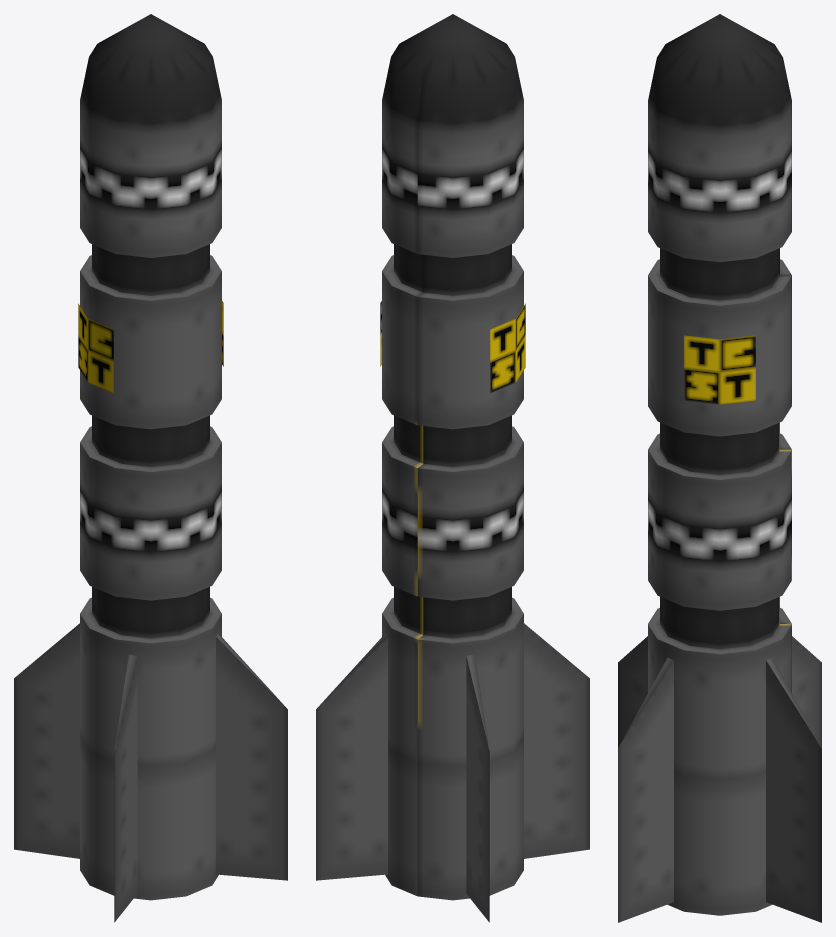
Rendered from missile_test.obj.
3 renders of one model, left to right at view 1: azimuth 30°, elevation 25°; view 2: azimuth 150°, elevation 25°; view 3: azimuth 270°, elevation 25°, orthographic.
Parts seen in each view (by area): view 1: missile_test; view 2: missile_test; view 3: missile_test.
Boxes of the visible parts, x1,y1,x2,y2 form: missile_test: (14,14,287,922); missile_test: (316,14,589,922); missile_test: (618,14,821,922).
Bounding box in the file's own units: 1.06 × 5 × 1.06.
